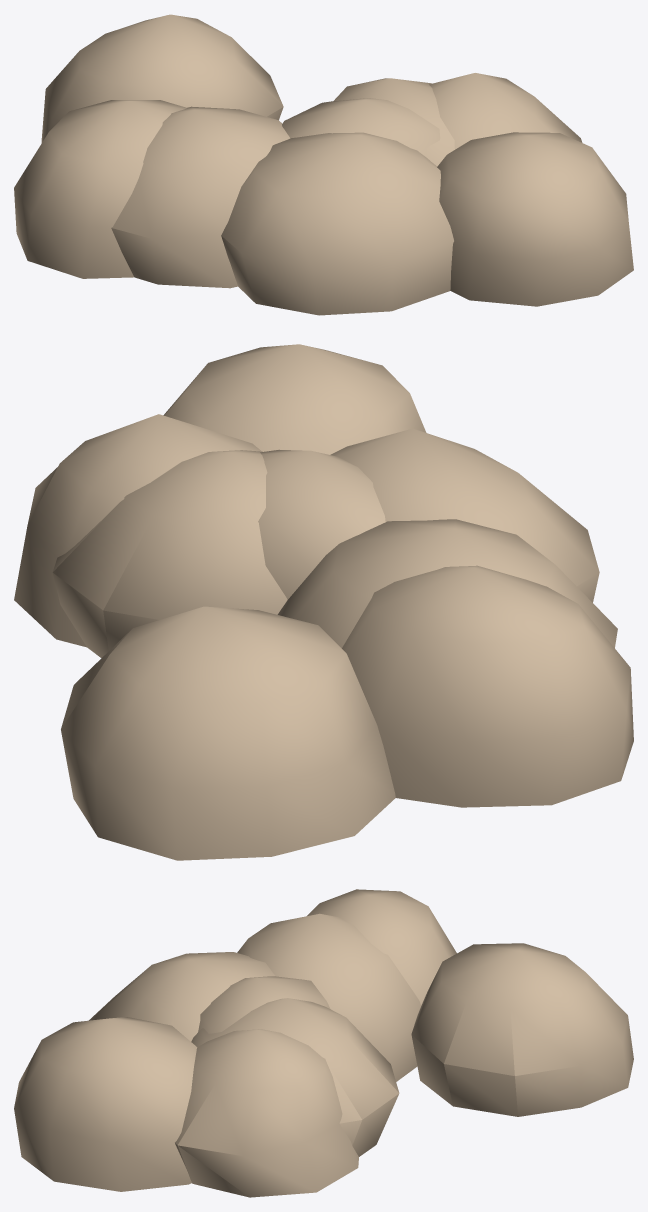
The model's file is food_fungus.obj.
3 views of the same model, one above another, from view 1: azimuth 30°, elevation 25°; view 2: azimuth 150°, elevation 25°; view 3: azimuth 270°, elevation 25° (orthographic). The views are drawn at different scales.
Visible parts, largest first — view 1: part_180_fungus, part_210_fungus, part_060_fungus, part_090_fungus, part_030_fungus, part_120_fungus, part_000_fungus, part_150_fungus; view 2: part_030_fungus, part_090_fungus, part_150_fungus, part_210_fungus, part_180_fungus, part_120_fungus, part_060_fungus, part_000_fungus; view 3: part_030_fungus, part_210_fungus, part_120_fungus, part_060_fungus, part_150_fungus, part_180_fungus, part_090_fungus, part_000_fungus.
Part boxes in pixels (x1,y1,x2,y2): part_180_fungus: (221, 132, 453, 315); part_210_fungus: (437, 132, 633, 306); part_060_fungus: (111, 106, 290, 288); part_090_fungus: (14, 100, 186, 278); part_030_fungus: (41, 14, 283, 142); part_120_fungus: (429, 73, 582, 149); part_000_fungus: (282, 98, 440, 157); part_150_fungus: (334, 78, 454, 166); part_030_fungus: (61, 606, 395, 860); part_090_fungus: (342, 565, 633, 807); part_150_fungus: (52, 450, 287, 657); part_210_fungus: (163, 344, 426, 454); part_180_fungus: (330, 428, 599, 602); part_120_fungus: (14, 414, 261, 647); part_060_fungus: (277, 519, 617, 648); part_000_fungus: (258, 449, 385, 599); part_030_fungus: (411, 943, 633, 1116); part_210_fungus: (14, 1017, 197, 1191); part_120_fungus: (175, 1029, 358, 1197); part_060_fungus: (237, 913, 421, 1081); part_150_fungus: (191, 998, 399, 1156); part_180_fungus: (89, 952, 275, 1041); part_090_fungus: (307, 889, 456, 1005); part_000_fungus: (198, 976, 330, 1033).
Bounding box in the file's own units: 0.3493 × 0.09 × 0.3981.
